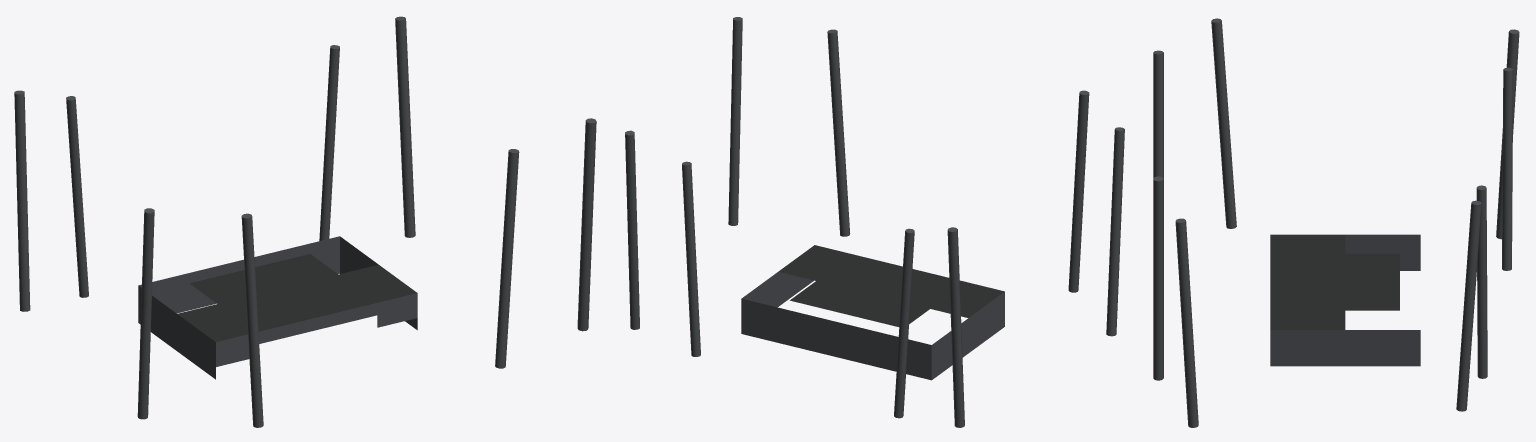
Rendered from Festival.fbx.
3 renders of one model, left to right at view 1: azimuth 30°, elevation 25°; view 2: azimuth 150°, elevation 25°; view 3: azimuth 270°, elevation 25°, orthographic. The views are drawn at different scales.
Visible parts, largest first — view 1: Box003; view 2: Box003; view 3: Box003.
Boxes of the visible parts, x1=… form: Box003: x1=14, y1=16, x2=596, y2=427; Box003: x1=625, y1=17, x2=1124, y2=427; Box003: x1=1153, y1=18, x2=1519, y2=427.
Size of the model in its own units: 507 by 249 by 386.
